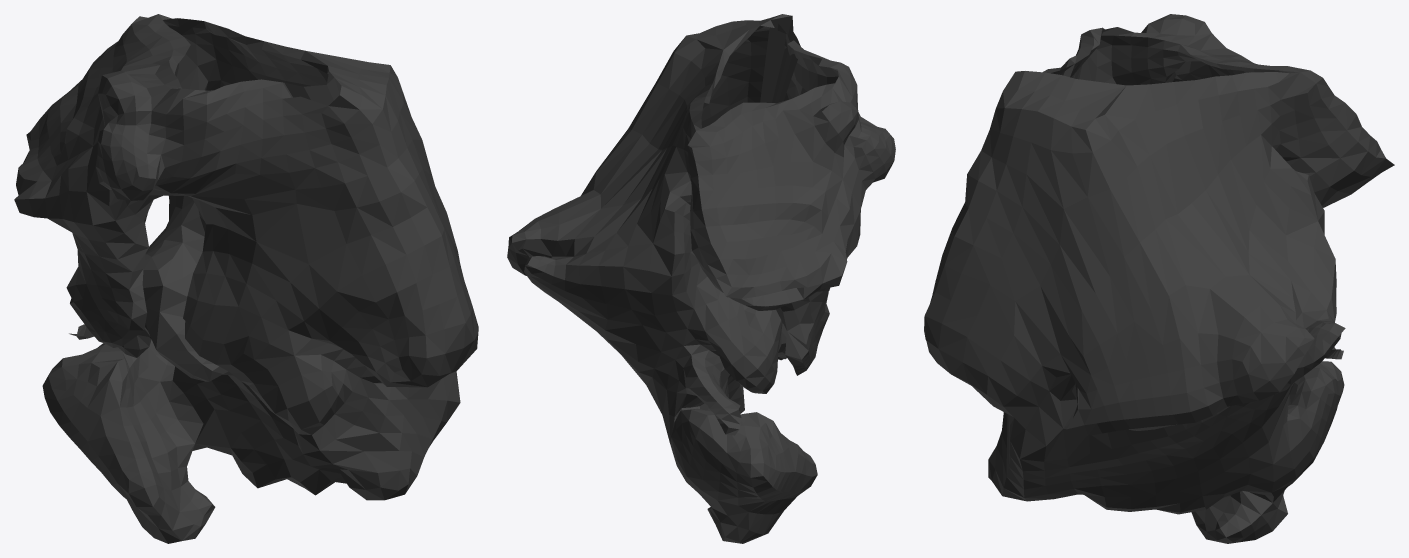
The model's file is L_maxillary_sinus_caudal.glb.
The picture shows the model from 3 angles, left to right: view 1: azimuth 30°, elevation 25°; view 2: azimuth 150°, elevation 25°; view 3: azimuth 270°, elevation 25°; orthographic projection. The views are drawn at different scales.
Visible parts, largest first — view 1: L_maxillary_sinus_caudal; view 2: L_maxillary_sinus_caudal; view 3: L_maxillary_sinus_caudal.
Boxes of the visible parts, x1,y1,x2,y2 form: L_maxillary_sinus_caudal: [14, 14, 478, 543]; L_maxillary_sinus_caudal: [507, 14, 895, 543]; L_maxillary_sinus_caudal: [924, 14, 1394, 543].
Bounding box in the file's own units: 79.48 × 101 × 86.71.
Materials: 1 (1 with a texture image).
